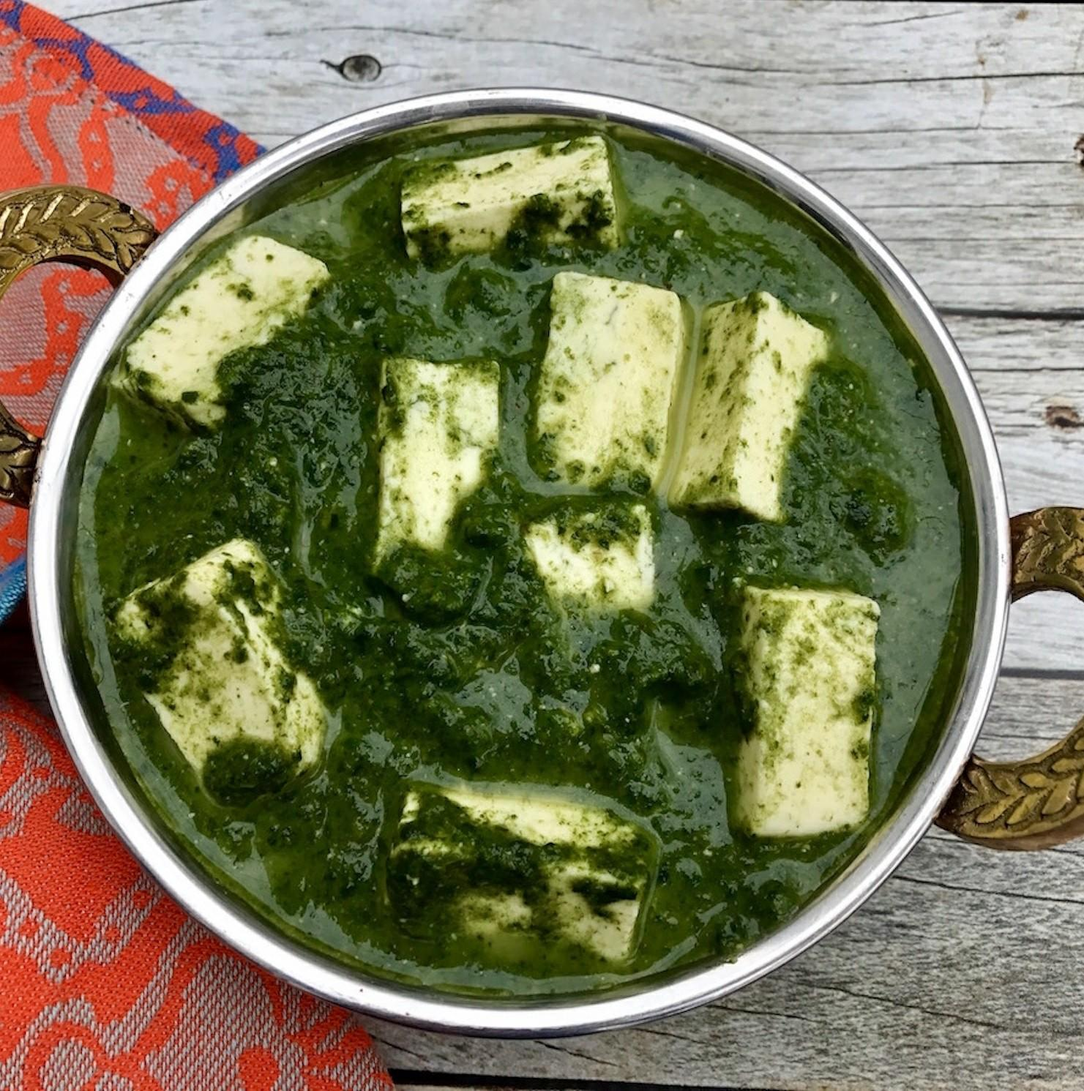PalakPaneer: (77, 116, 988, 1000)
